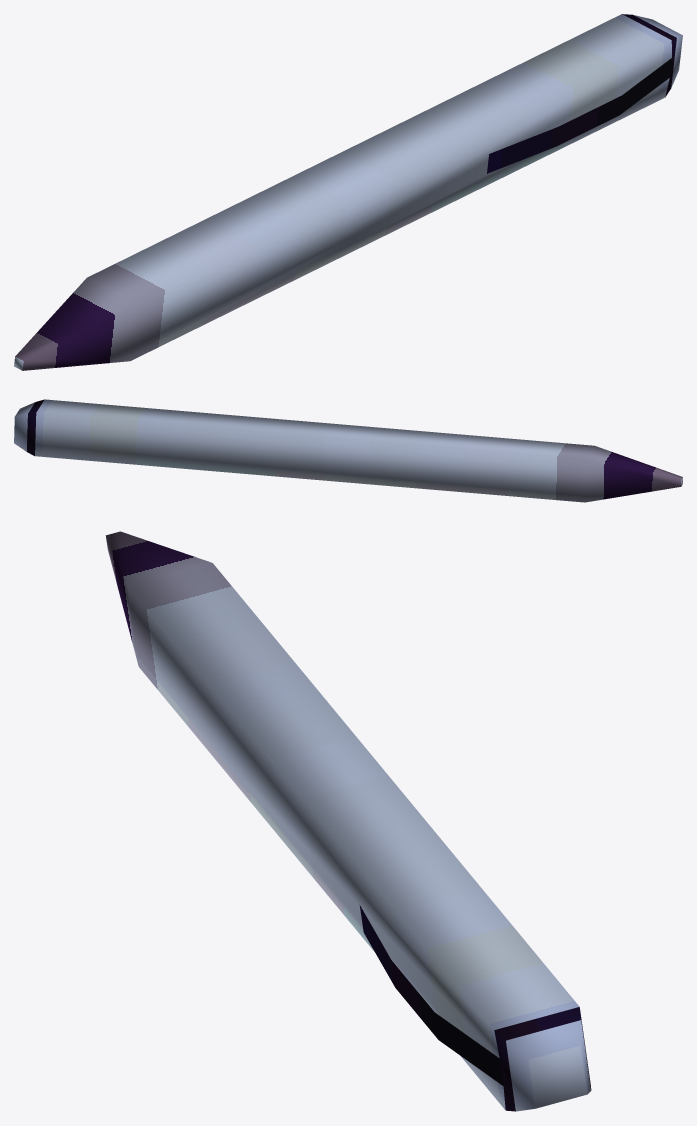
File: pen3.obj
3 views of the same model, one above another, from view 1: azimuth 30°, elevation 25°; view 2: azimuth 150°, elevation 25°; view 3: azimuth 270°, elevation 25° (orthographic). The views are drawn at different scales.
Visible parts, largest first — view 1: pen3; view 2: pen3; view 3: pen3.
Part boxes in pixels (bbox=[...]): pen3: bbox=[14, 14, 682, 370]; pen3: bbox=[14, 399, 682, 502]; pen3: bbox=[105, 531, 591, 1111].
Size of the model in its own units: 0.2207 by 0.0181 by 0.0829.
